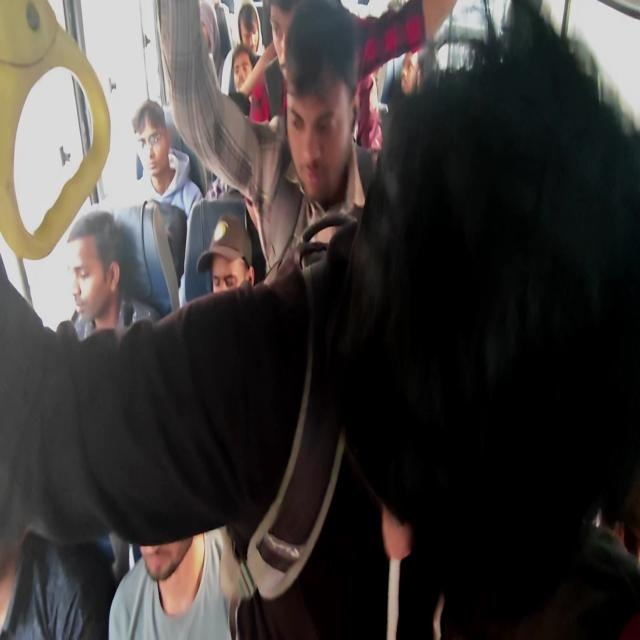person: (1, 1, 638, 637), (152, 0, 458, 638), (340, 2, 639, 637), (155, 0, 456, 286), (264, 1, 380, 274), (108, 527, 235, 638), (132, 99, 204, 220), (66, 209, 133, 339), (196, 212, 255, 294), (231, 43, 271, 123)
